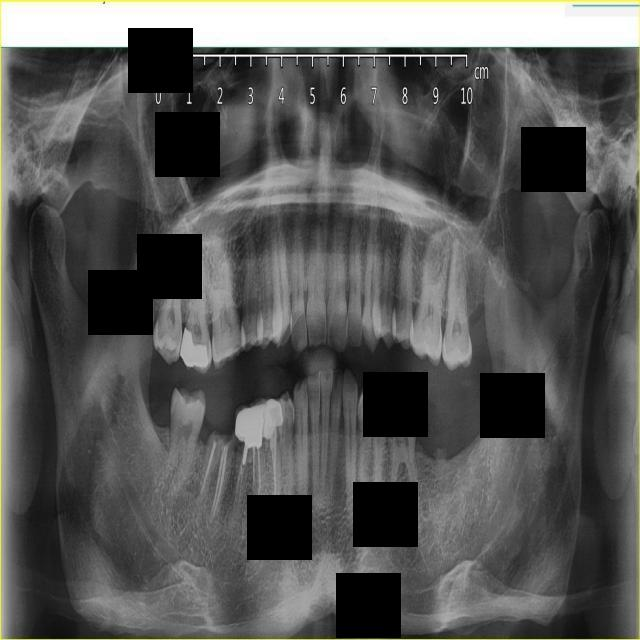71: (241, 442, 249, 466)
72: (140, 258, 157, 318), (434, 447, 451, 478)
74: (212, 446, 230, 518), (210, 446, 226, 515), (199, 440, 217, 495), (268, 427, 277, 515), (235, 465, 247, 513), (257, 448, 261, 515), (253, 446, 255, 488)
NucleOSS Implant: (170, 325, 213, 373), (240, 413, 264, 449), (392, 391, 411, 421)
Sterngold Implant: (210, 430, 237, 453)
Zimmer Implant: (233, 398, 271, 442), (262, 397, 286, 441)
